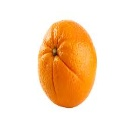orange: (35, 18, 98, 107)
